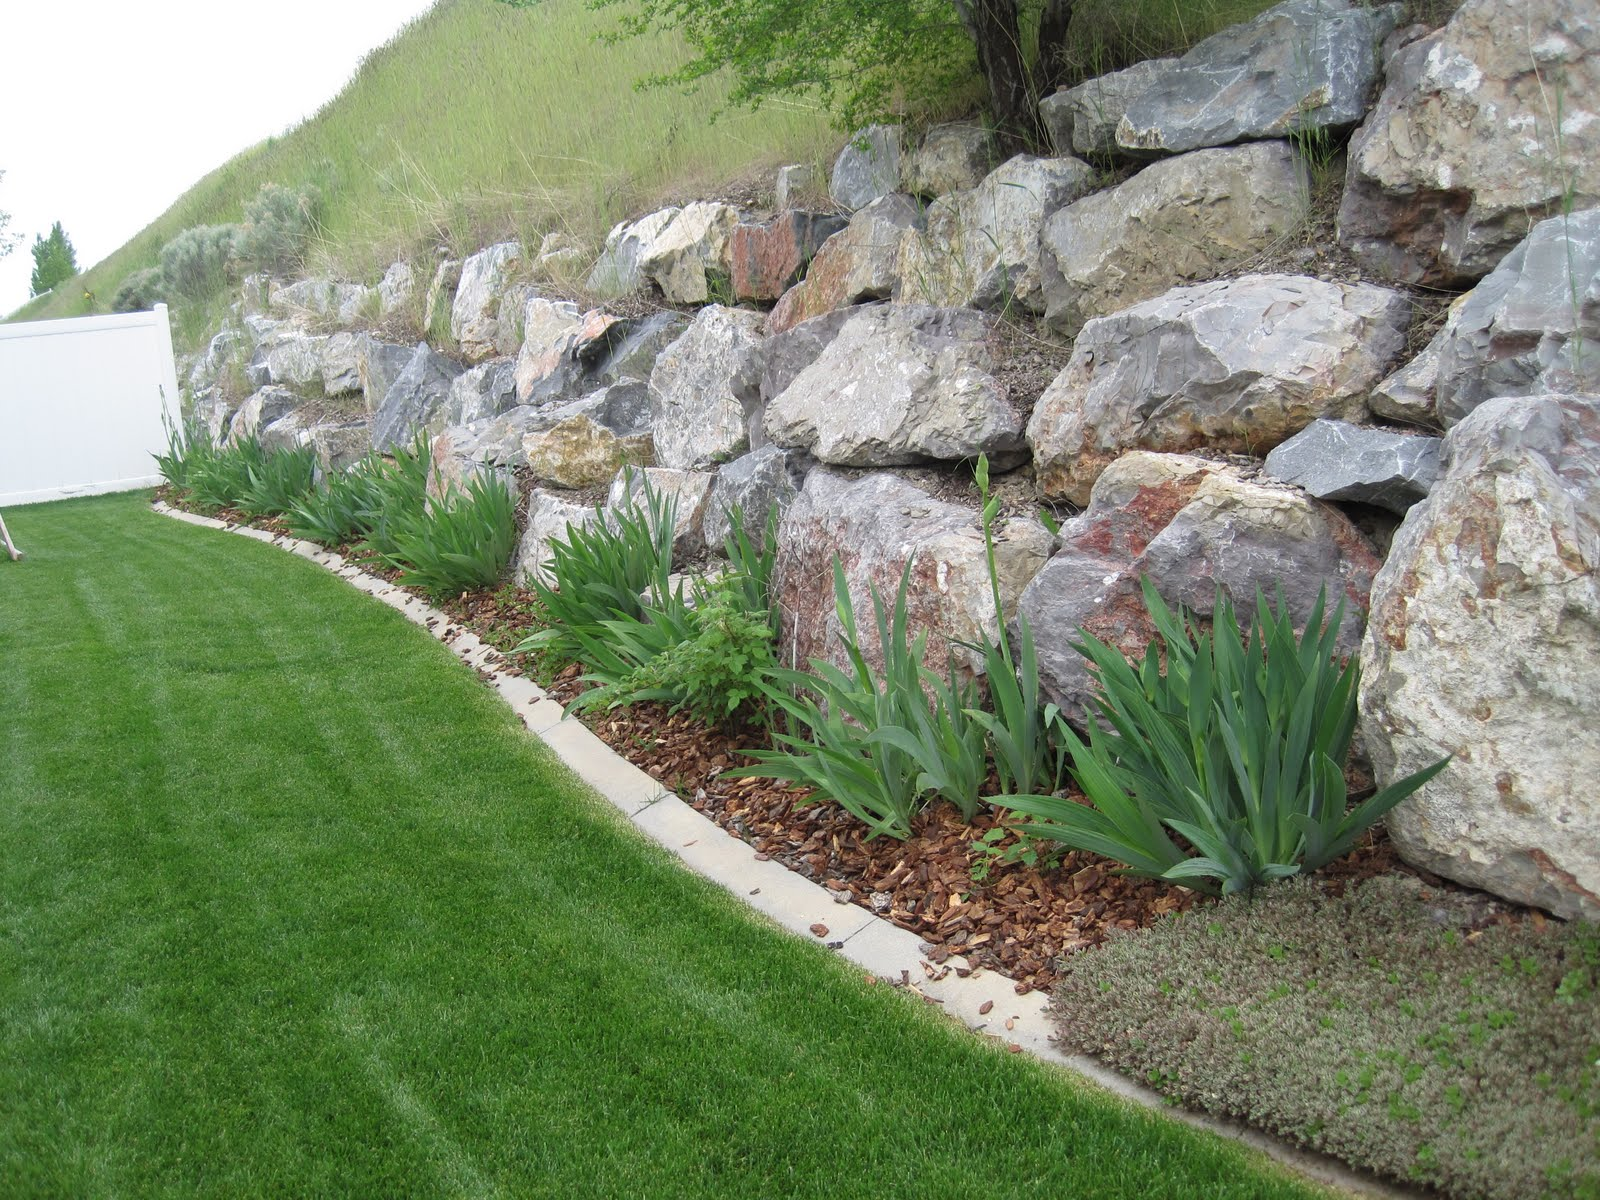grass: (6, 507, 513, 1184), (522, 803, 1283, 1190)
rock: (212, 42, 1591, 905)
